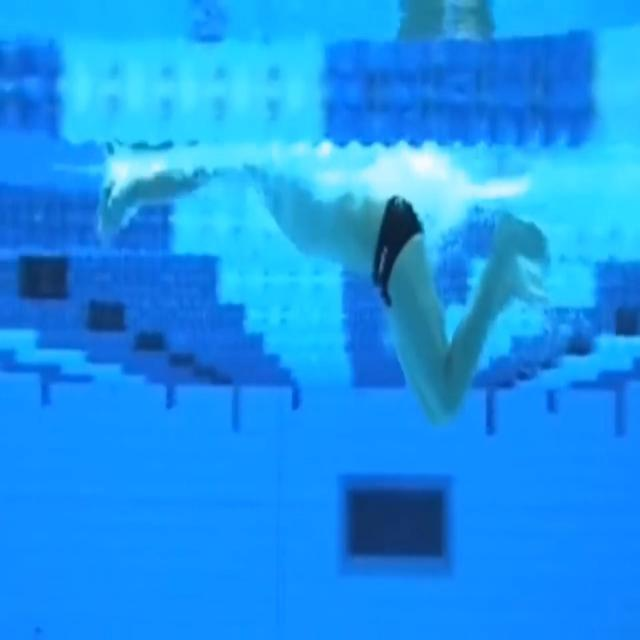Swimming: (93, 150, 553, 421)
